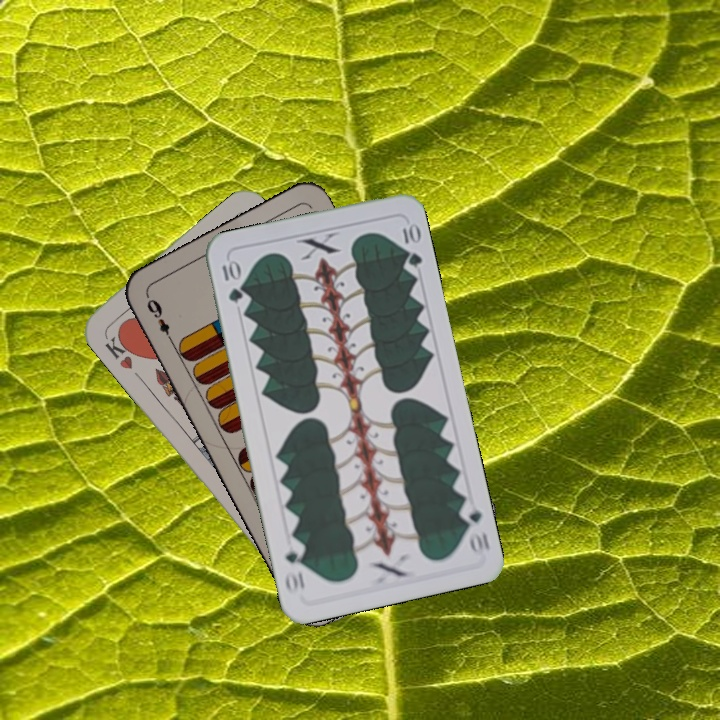E9: (142, 294, 177, 347)
G10: (456, 498, 493, 557), (218, 256, 245, 306)
HK: (99, 326, 141, 372)
